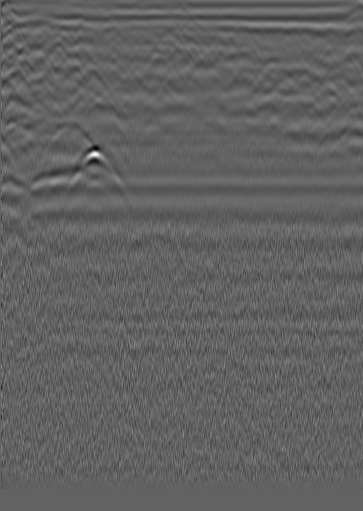가스: (72, 147, 110, 179)
상수: (324, 21, 344, 41)
오수: (33, 22, 53, 42)
우수: (191, 19, 211, 39)
